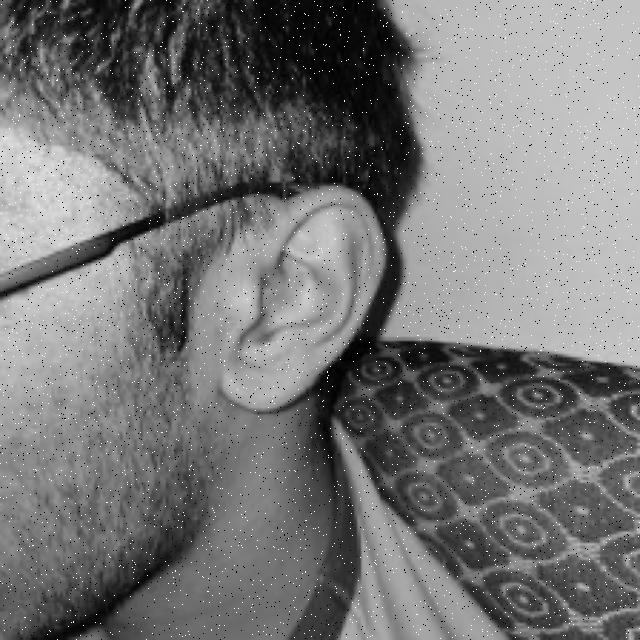ear: (197, 186, 380, 406), (197, 326, 200, 331)
